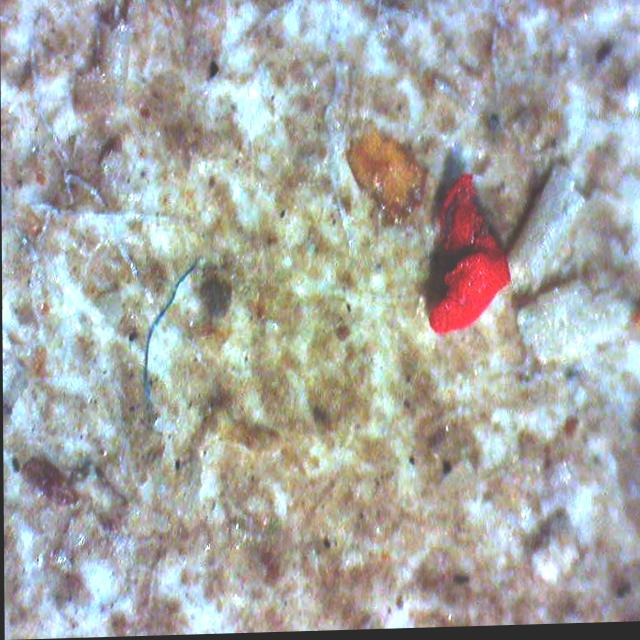microplastic: (428, 176, 511, 337), (142, 267, 197, 412)
